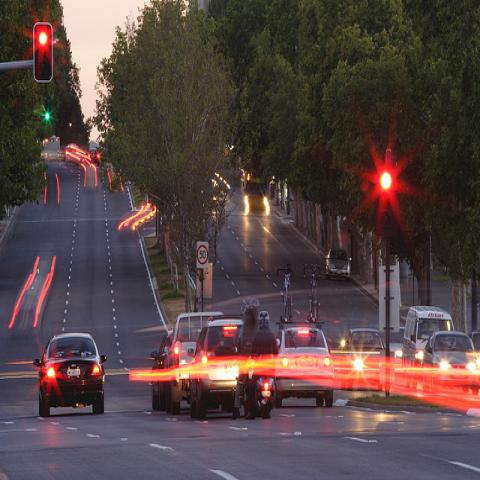bus: (44, 136, 61, 162)
car: (33, 333, 107, 419), (188, 313, 244, 421), (274, 317, 335, 411), (165, 312, 210, 414), (403, 305, 455, 388), (421, 331, 479, 395), (341, 340, 386, 393), (151, 331, 174, 411), (239, 169, 270, 212), (346, 329, 386, 357), (380, 326, 404, 368), (63, 142, 102, 165), (326, 249, 352, 282), (470, 330, 479, 353)
motorcycle: (254, 368, 278, 416), (237, 365, 256, 418)
